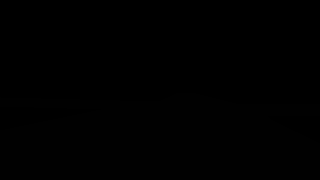go_ahead: (272, 21, 318, 55)
